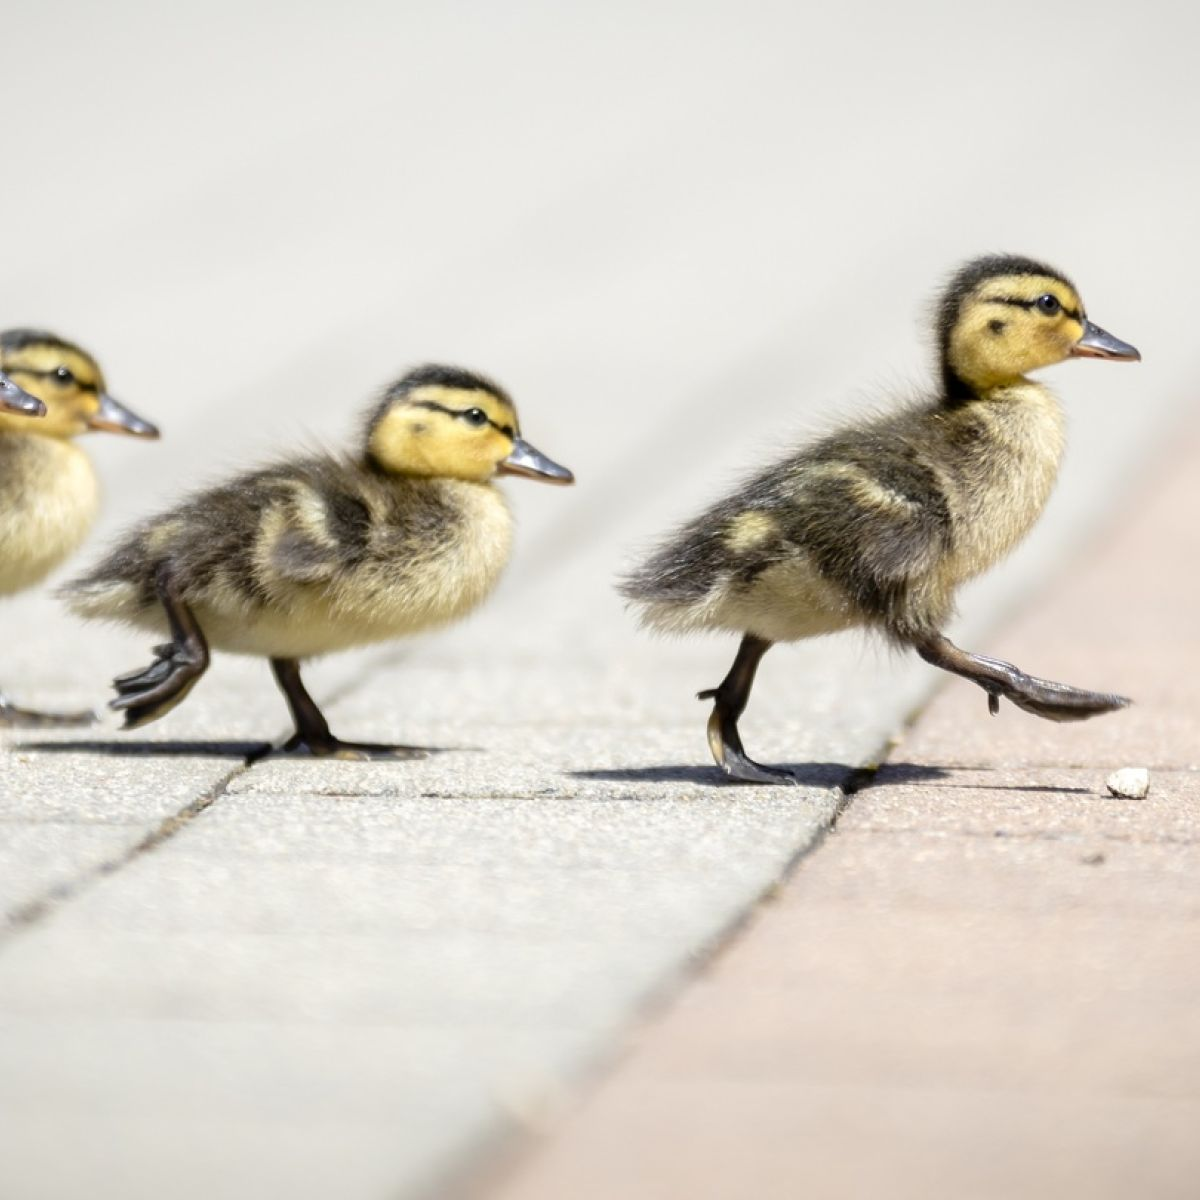duckling: (598, 251, 1164, 777), (38, 340, 586, 766)
